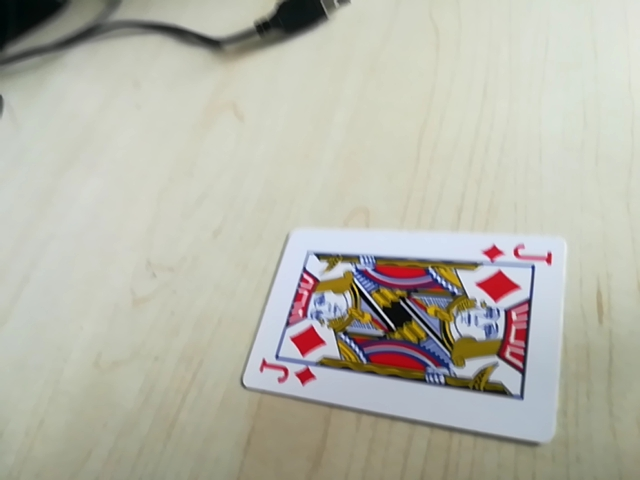fk j: (481, 237, 556, 269), (256, 360, 319, 391)
